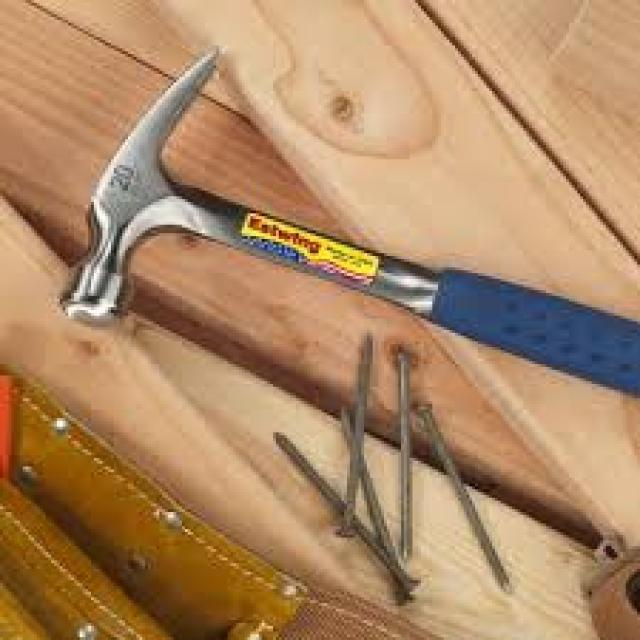Palu: (72, 46, 640, 414)
